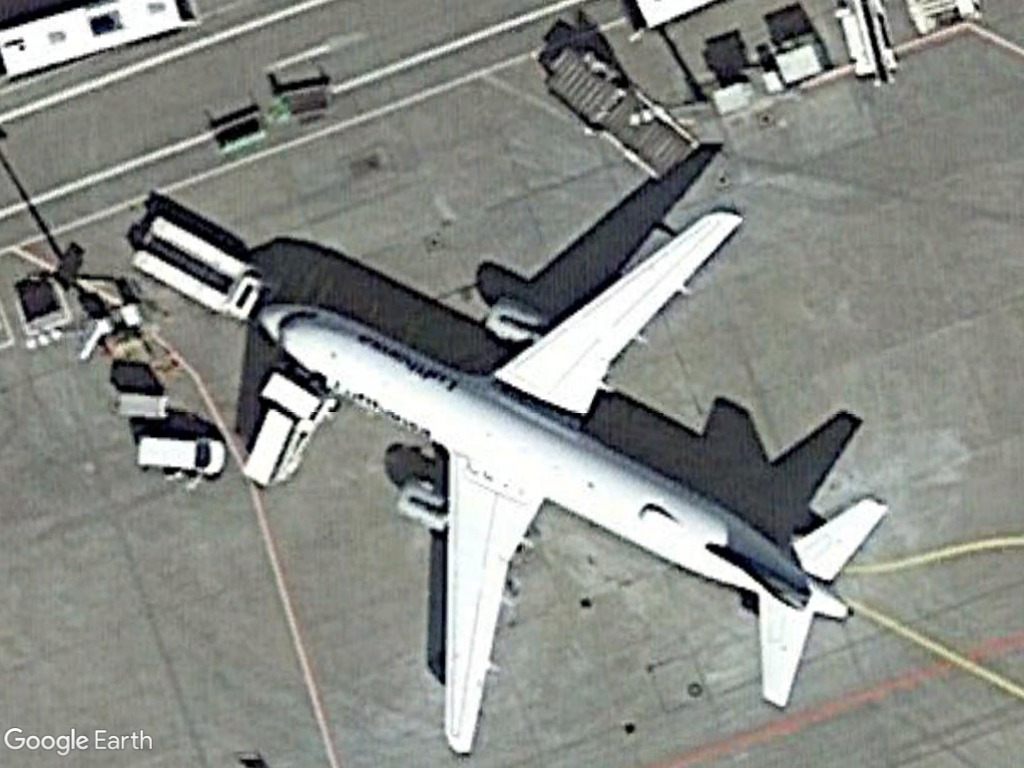airliner: (250, 201, 893, 759)
van: (133, 429, 228, 481)
